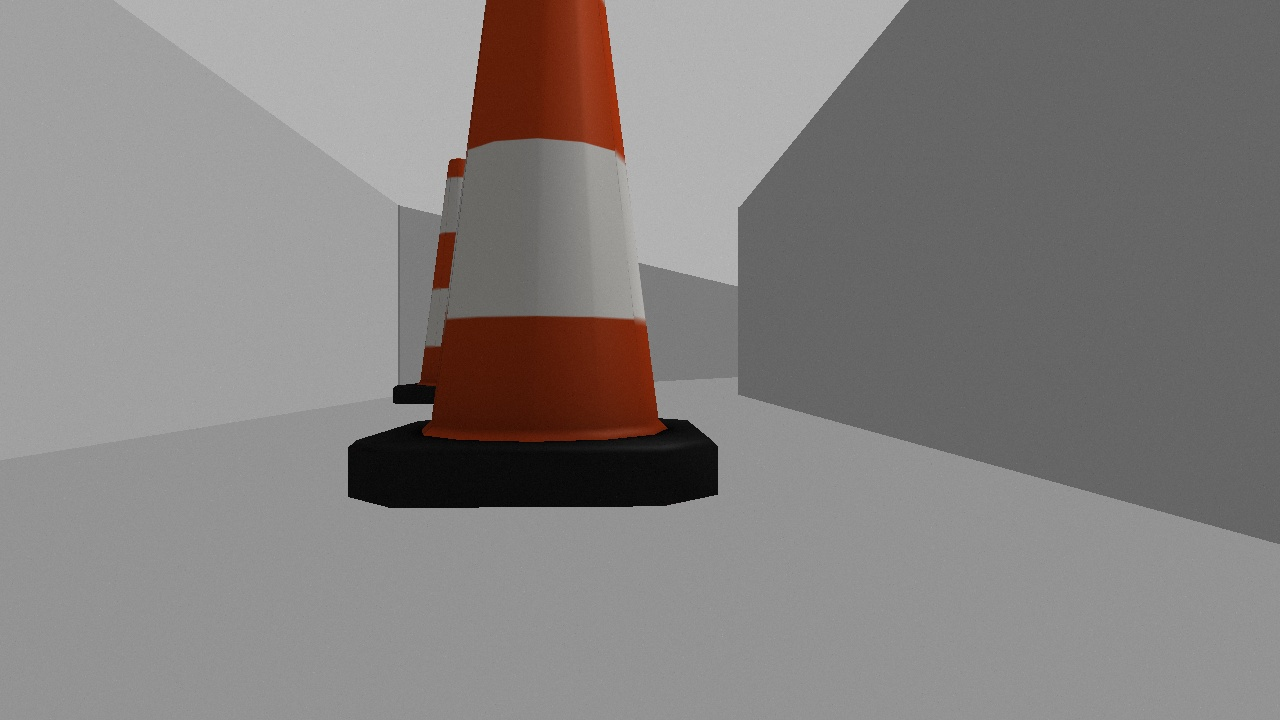barricade: (326, 1, 745, 520), (386, 152, 512, 412)
